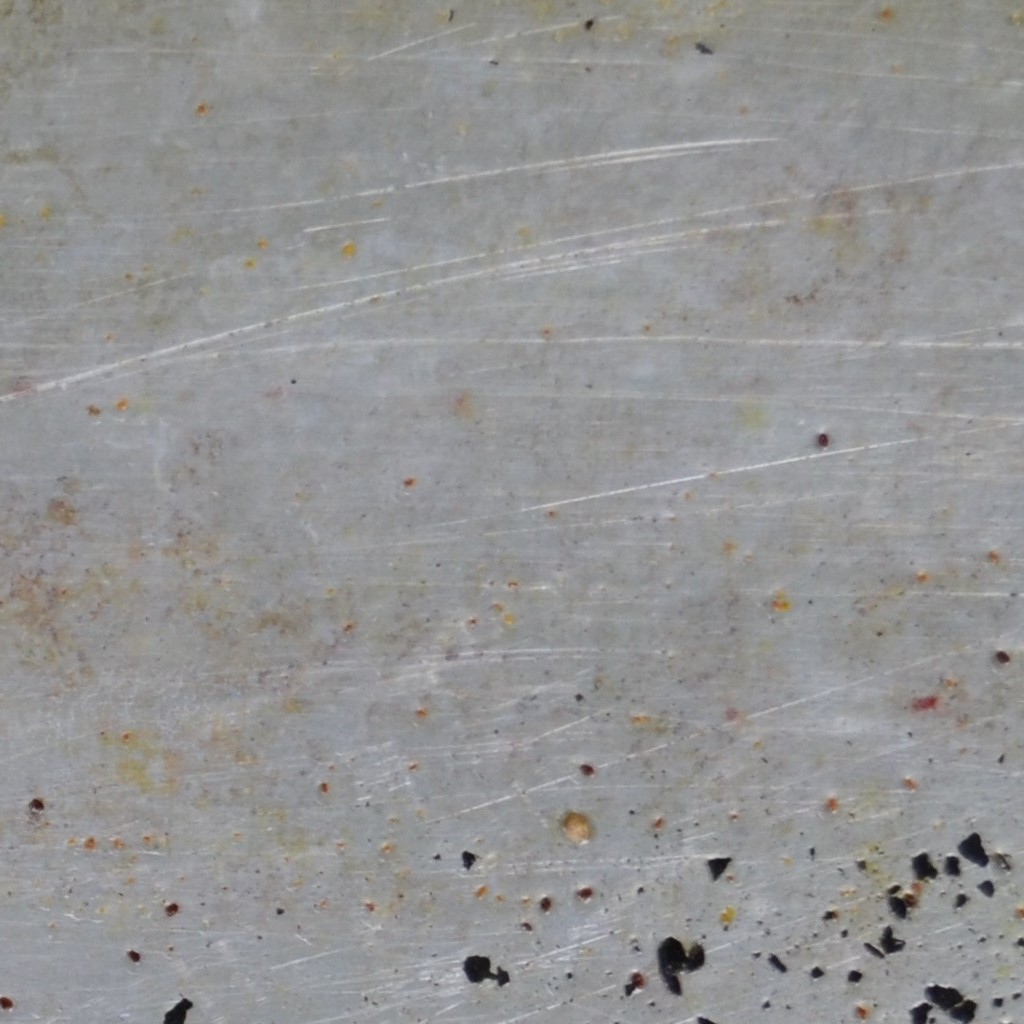varroa: (629, 969, 647, 990), (577, 761, 597, 779), (902, 890, 920, 909), (164, 901, 179, 922), (538, 895, 553, 915), (994, 648, 1011, 665), (27, 796, 45, 812), (575, 887, 594, 902), (817, 430, 830, 451), (0, 995, 14, 1011)
